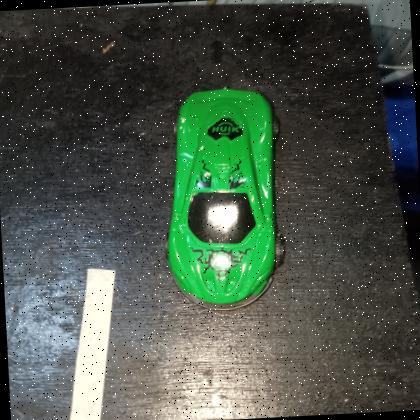Car: (155, 84, 291, 314)
